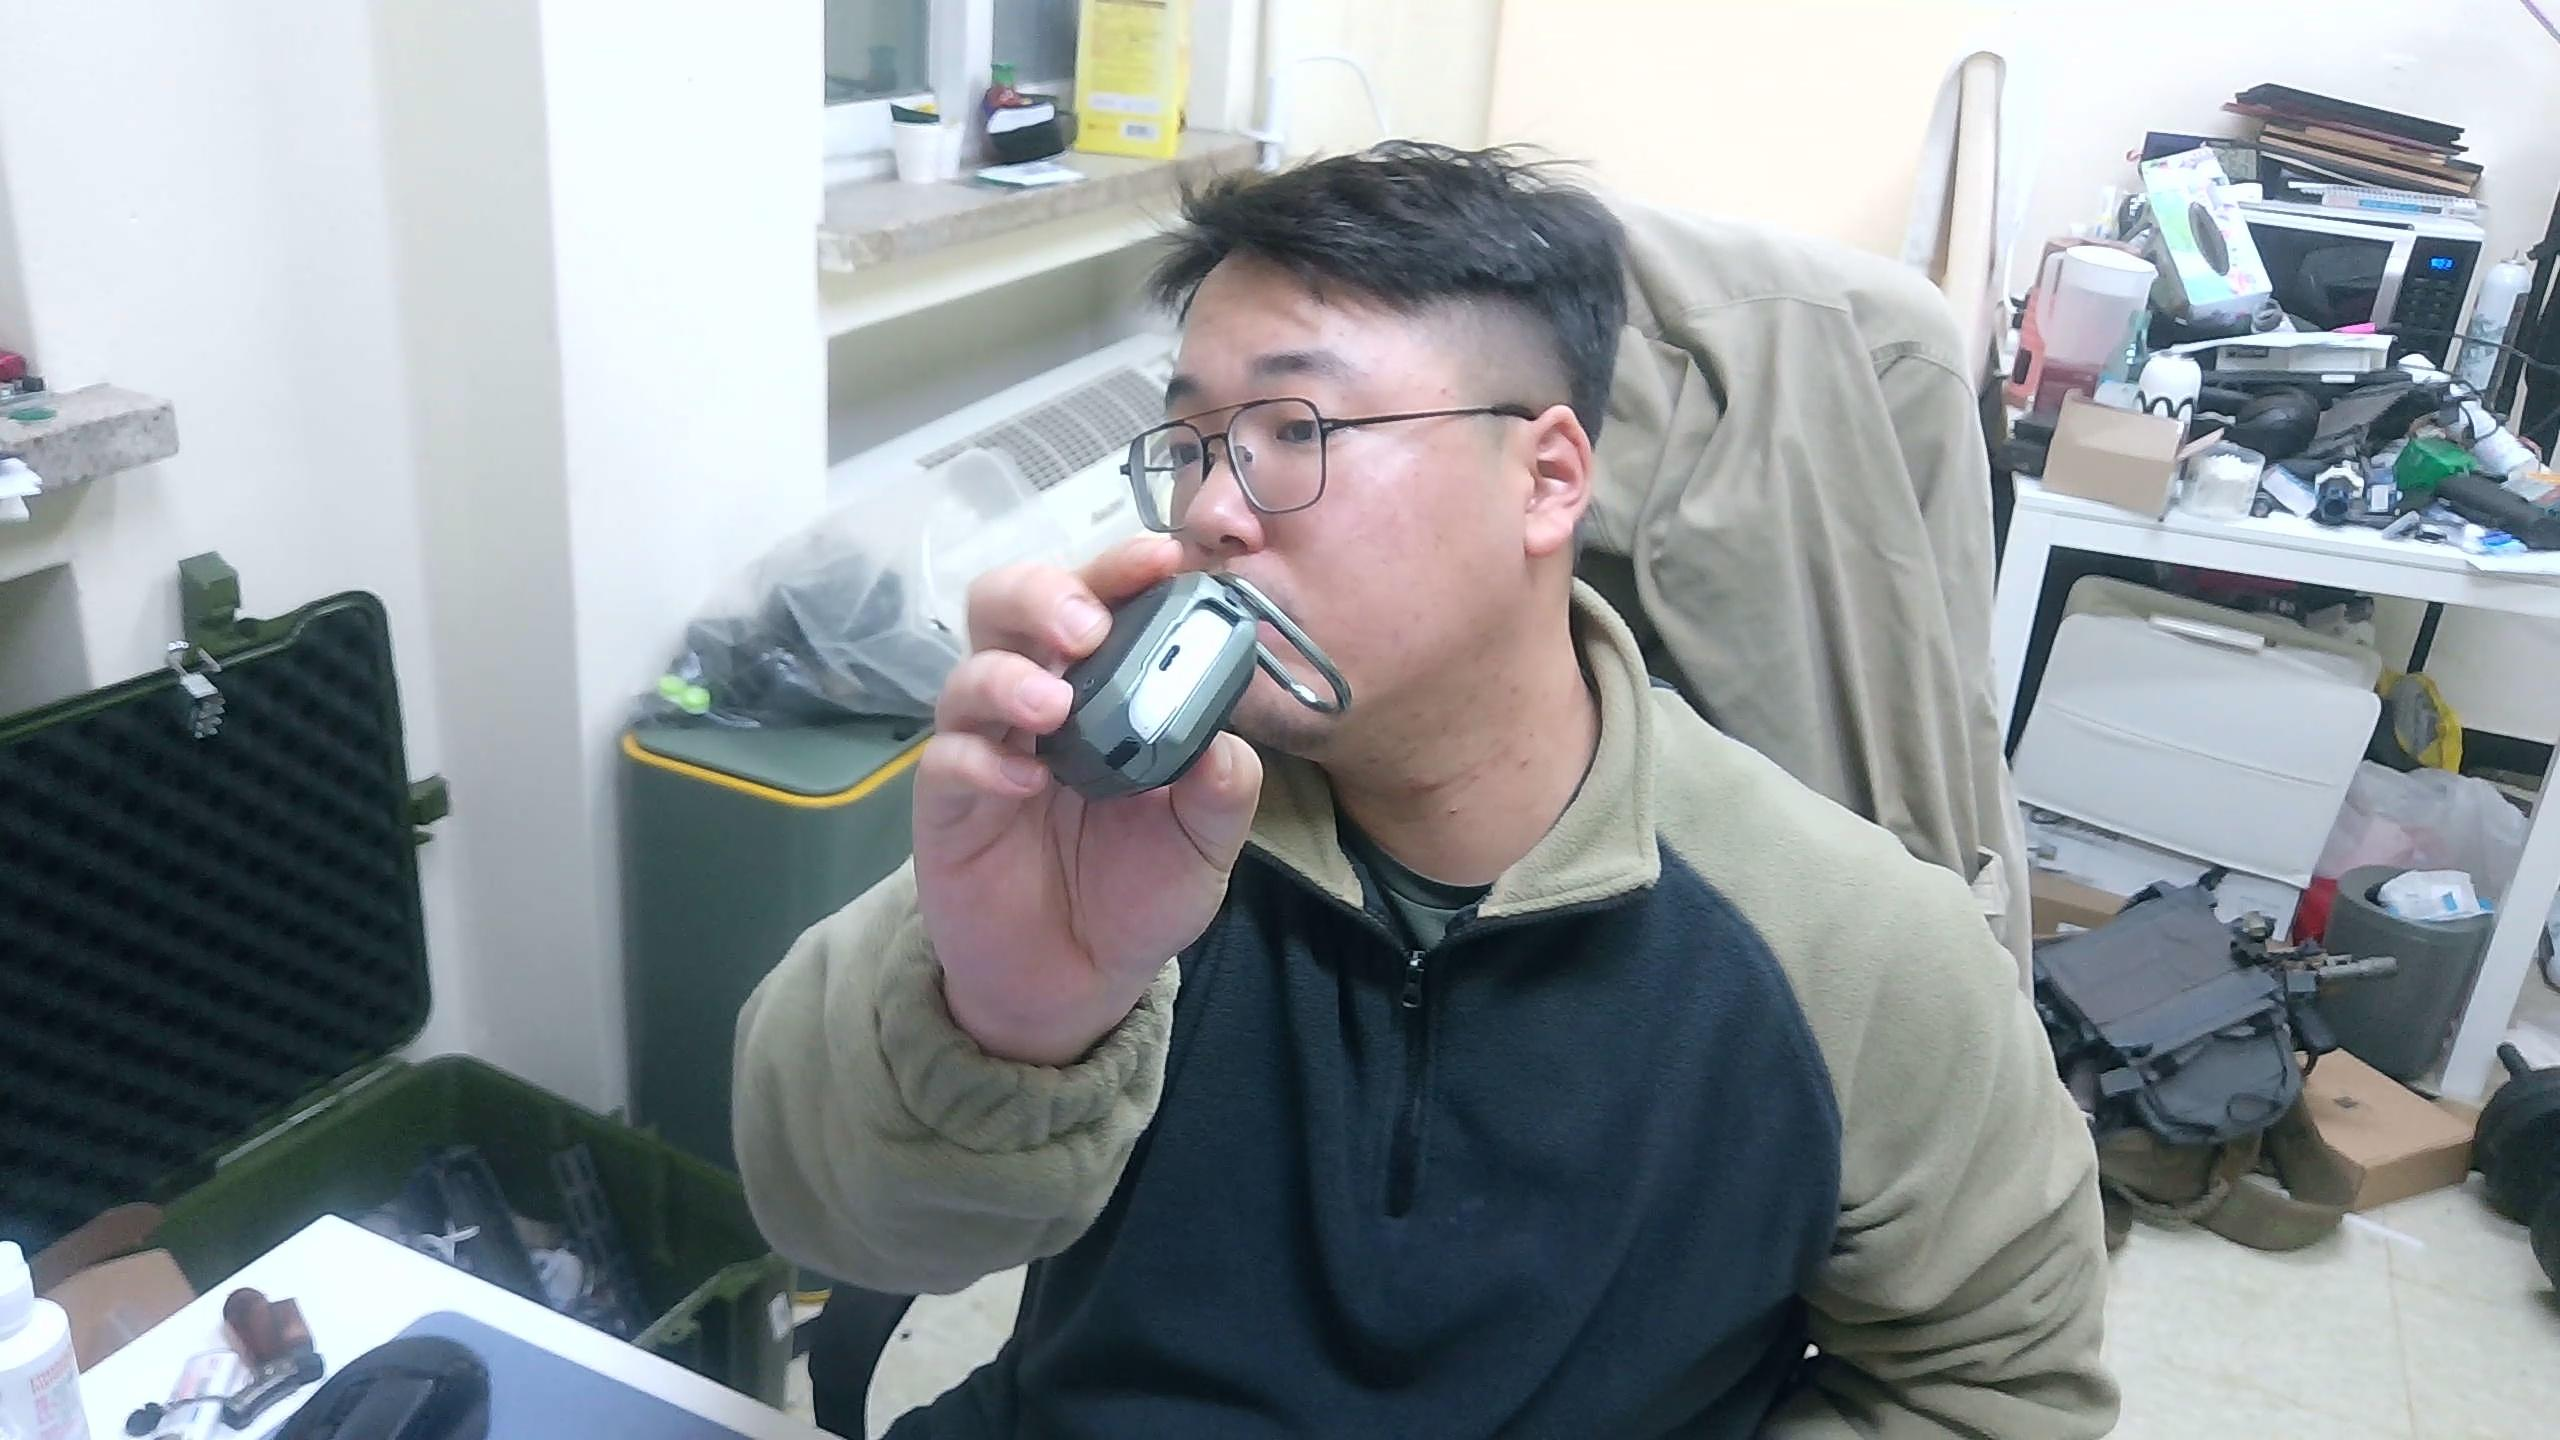blue_pliers: (1036, 564, 1356, 804)
